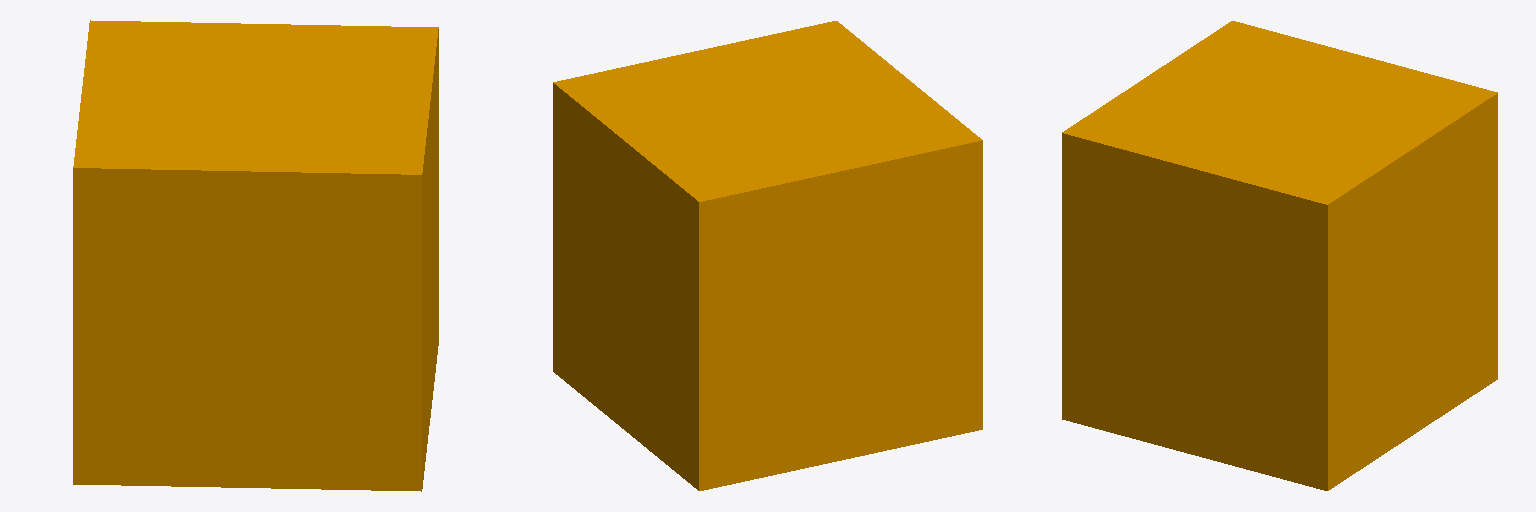
robot.urdf — warning_urdf_10_rpy_and_quat_xyzw:
<?xml version="1.0"?>
<!-- URDF 1.0: both rpy and quat_xyzw warn. quat_xyzw is ignored and rpy is used. -->
<robot name="warning_urdf_10_rpy_and_quat_xyzw" version="1.0">
  <link name="base_link">
    <visual>
      <origin xyz="0 0 0" rpy="0 0 1" quat_xyzw="0 0.7071067811865476 0 0.7071067811865476"/>
      <geometry>
        <box size="0.1 0.1 0.1"/>
      </geometry>
    </visual>
  </link>
</robot>

--- What the picture shows (computed from the rendered views, not written in the file) ---
Views: 3 orthographic renders of the robot side by side, from view 1: azimuth 30°, elevation 25°; view 2: azimuth 150°, elevation 25°; view 3: azimuth 270°, elevation 25°.
Model warning_urdf_10_rpy_and_quat_xyzw with 1 links and 0 joints (none), rooted at base_link, posed all joints at 0.
Links seen in each view (by area): view 1: base_link; view 2: base_link; view 3: base_link.
Boxes of the visible links, <box> form: base_link: <box>73,20,438,491</box>; base_link: <box>553,21,982,490</box>; base_link: <box>1062,21,1497,490</box>.
Bounding box of the posed robot: 0.1382 × 0.1382 × 0.1 m (x, y, z).
Geometry: primitives only (box / cylinder / sphere), no mesh files.
